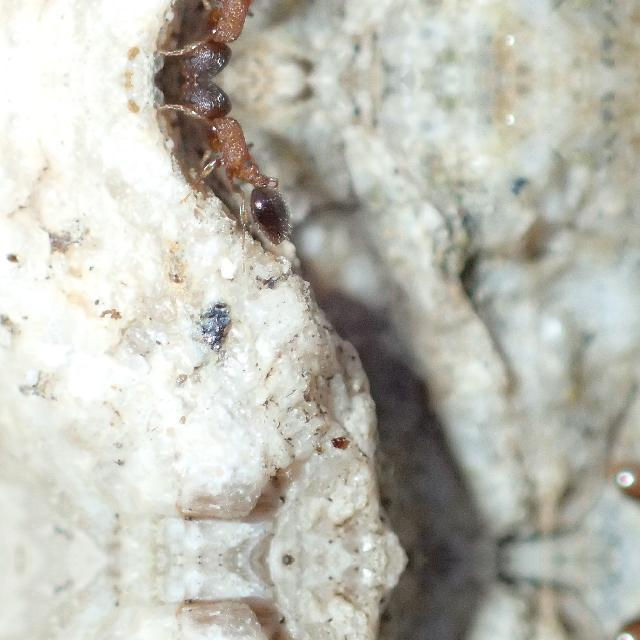Temnothorax: (103, 80, 339, 262), (103, 0, 339, 80)
